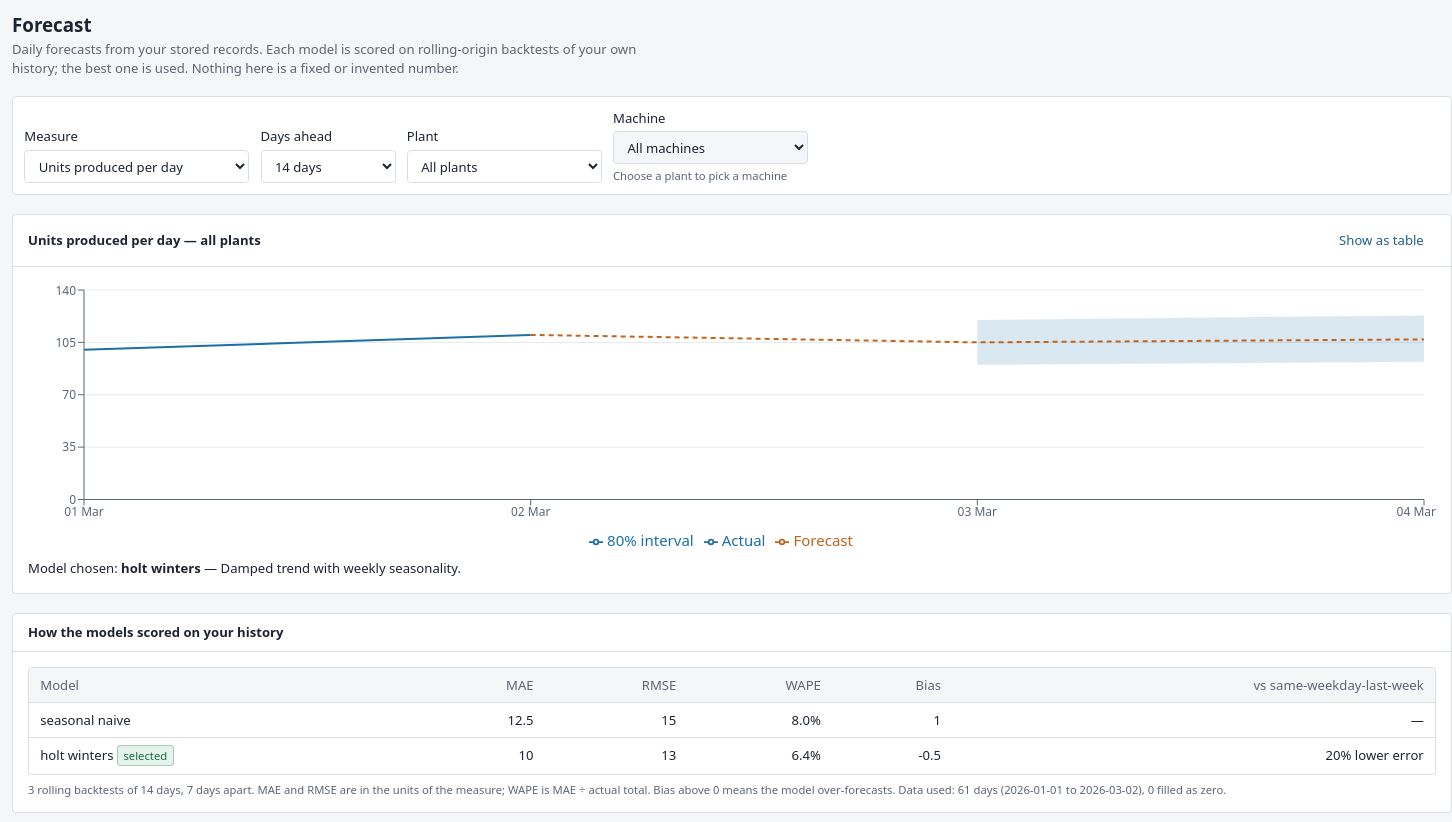
Test case: ForecastPage › offers the forecast as a table
Click the button "Show as table".
click(1381, 240)  # box x1=1327 y1=224 x2=1436 y2=256
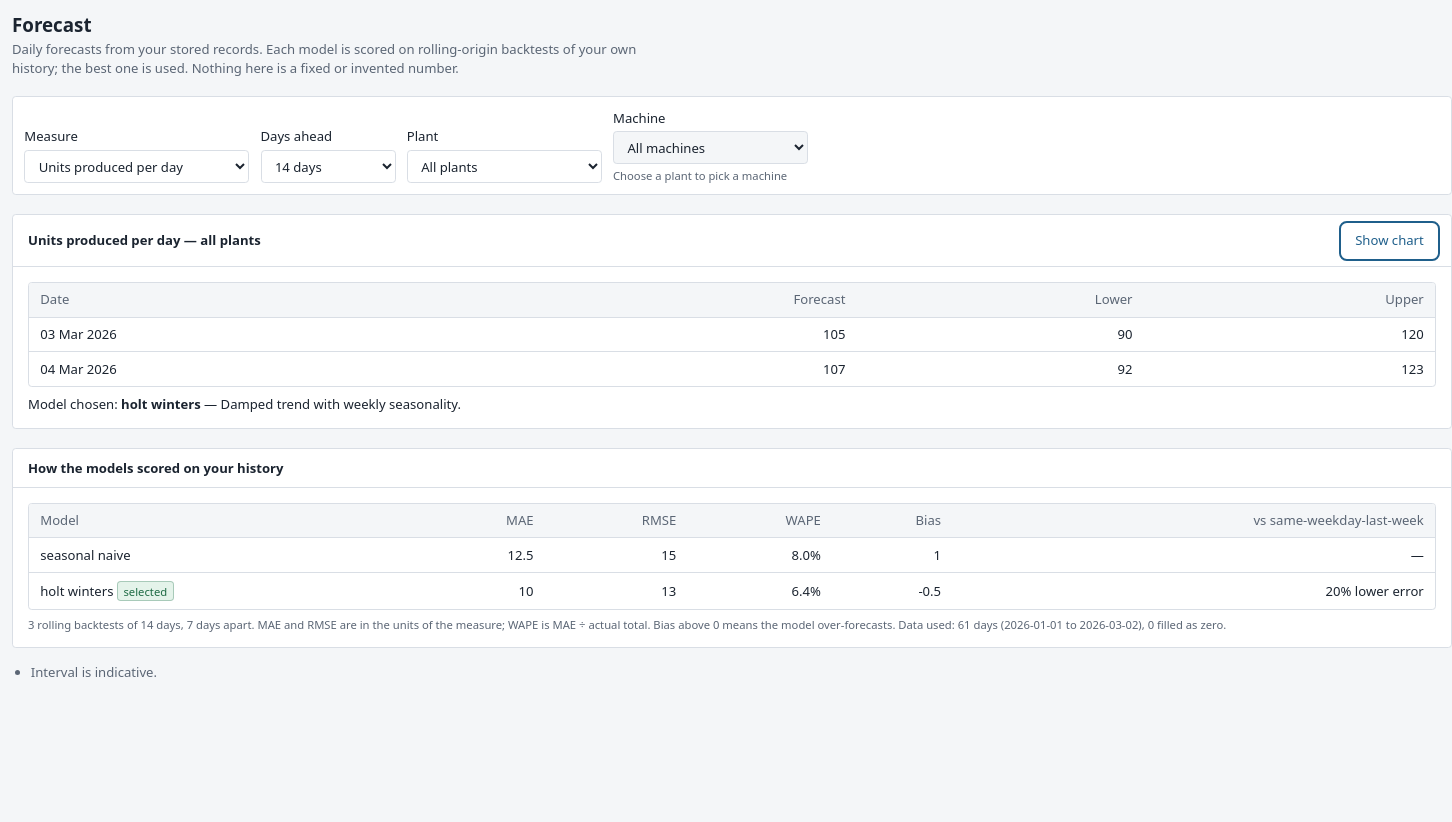
Now the text "120" is shown, box x1=1144 y1=318 x2=1435 y2=352
